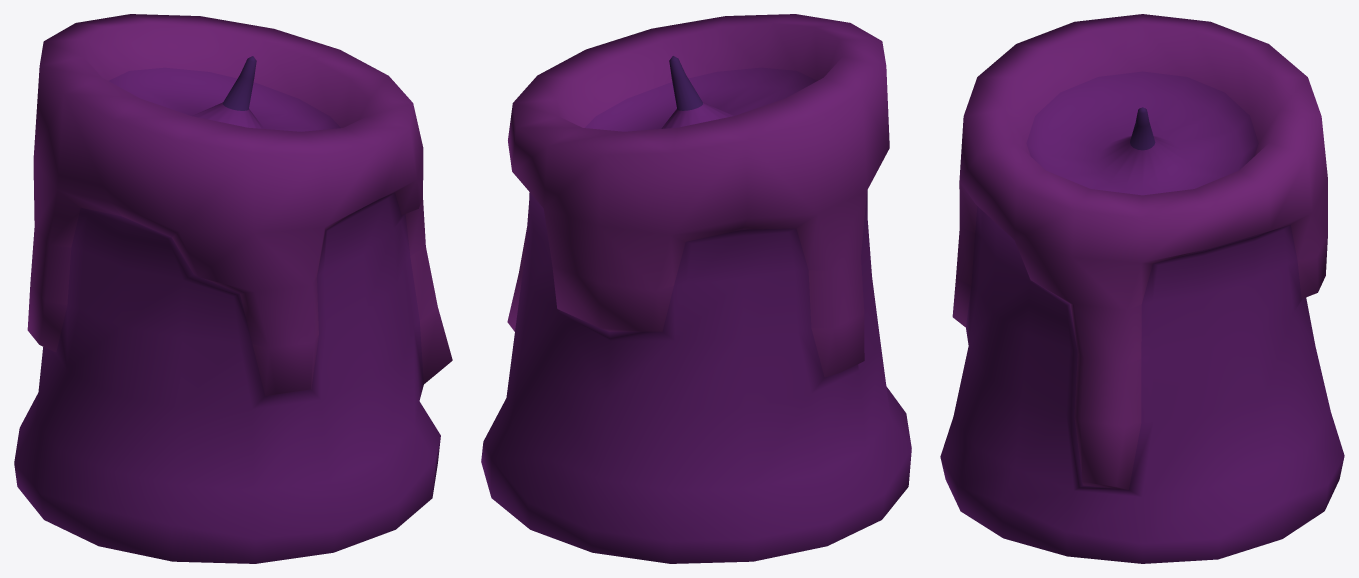
File: Candle_01.fbx
3 renders of one model, left to right at view 1: azimuth 30°, elevation 25°; view 2: azimuth 150°, elevation 25°; view 3: azimuth 270°, elevation 25°, orthographic. The views are drawn at different scales.
Visible parts, largest first — view 1: Candle_01; view 2: Candle_01; view 3: Candle_01.
Part boxes in pixels (x1=…): Candle_01: x1=14, y1=14, x2=452, y2=563; Candle_01: x1=481, y1=14, x2=911, y2=563; Candle_01: x1=940, y1=14, x2=1344, y2=563.
Size of the model in its own units: 13.32 by 13.91 by 12.82.
